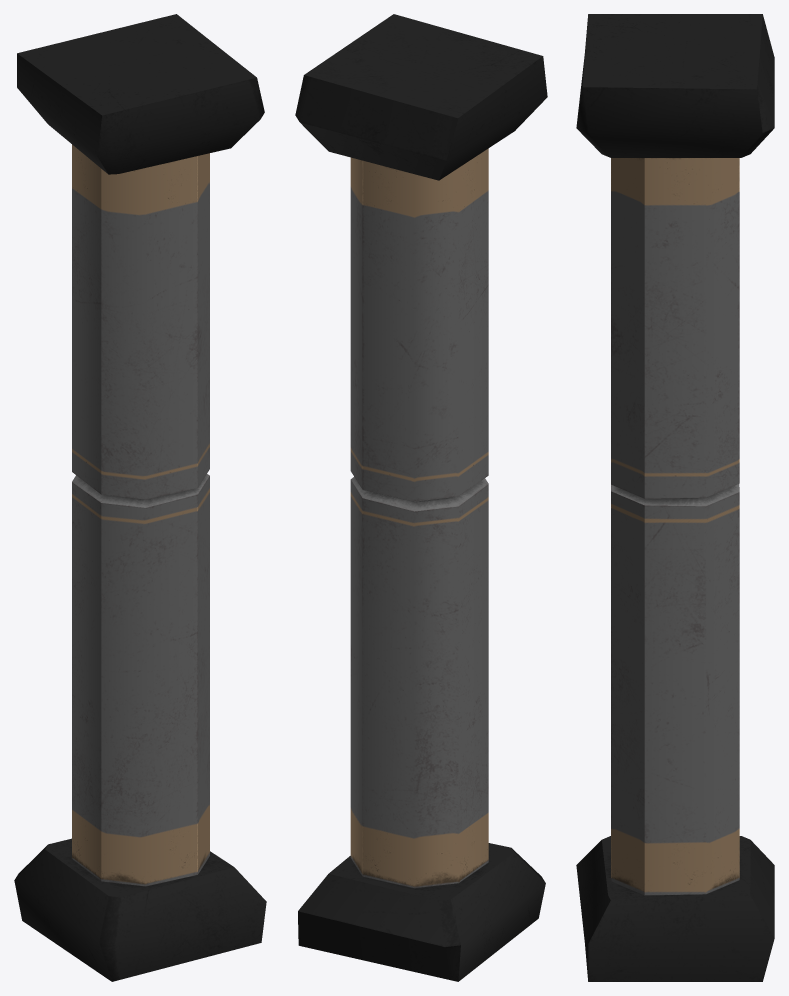
The model's file is blackpillar.glb.
3 renders of one model, left to right at view 1: azimuth 30°, elevation 25°; view 2: azimuth 150°, elevation 25°; view 3: azimuth 270°, elevation 25°, orthographic. The views are drawn at different scales.
Visible parts, largest first — view 1: ColumnA; view 2: ColumnA; view 3: ColumnA.
Boxes of the visible parts, bbox=[...] form: ColumnA: bbox=[14, 14, 266, 981]; ColumnA: bbox=[295, 14, 547, 981]; ColumnA: bbox=[576, 14, 774, 981].
Size of the model in its own units: 0.9758 by 4.79 by 0.9657.
1 material, 1 textured.
